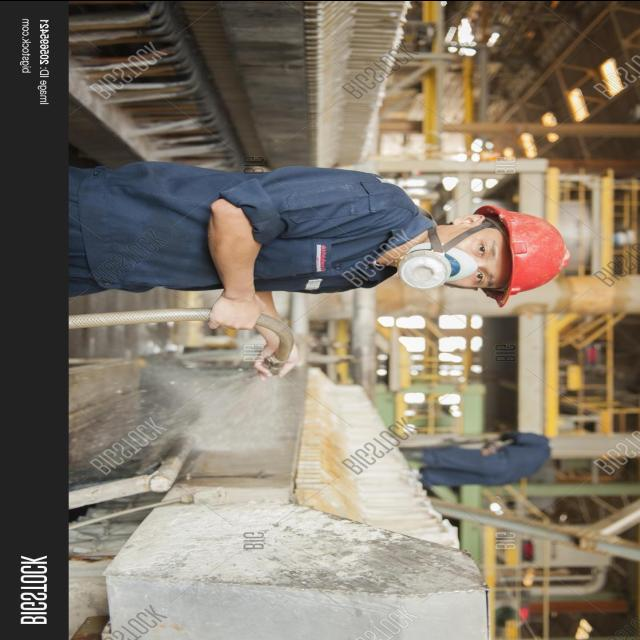helmet: (476, 198, 576, 306)
